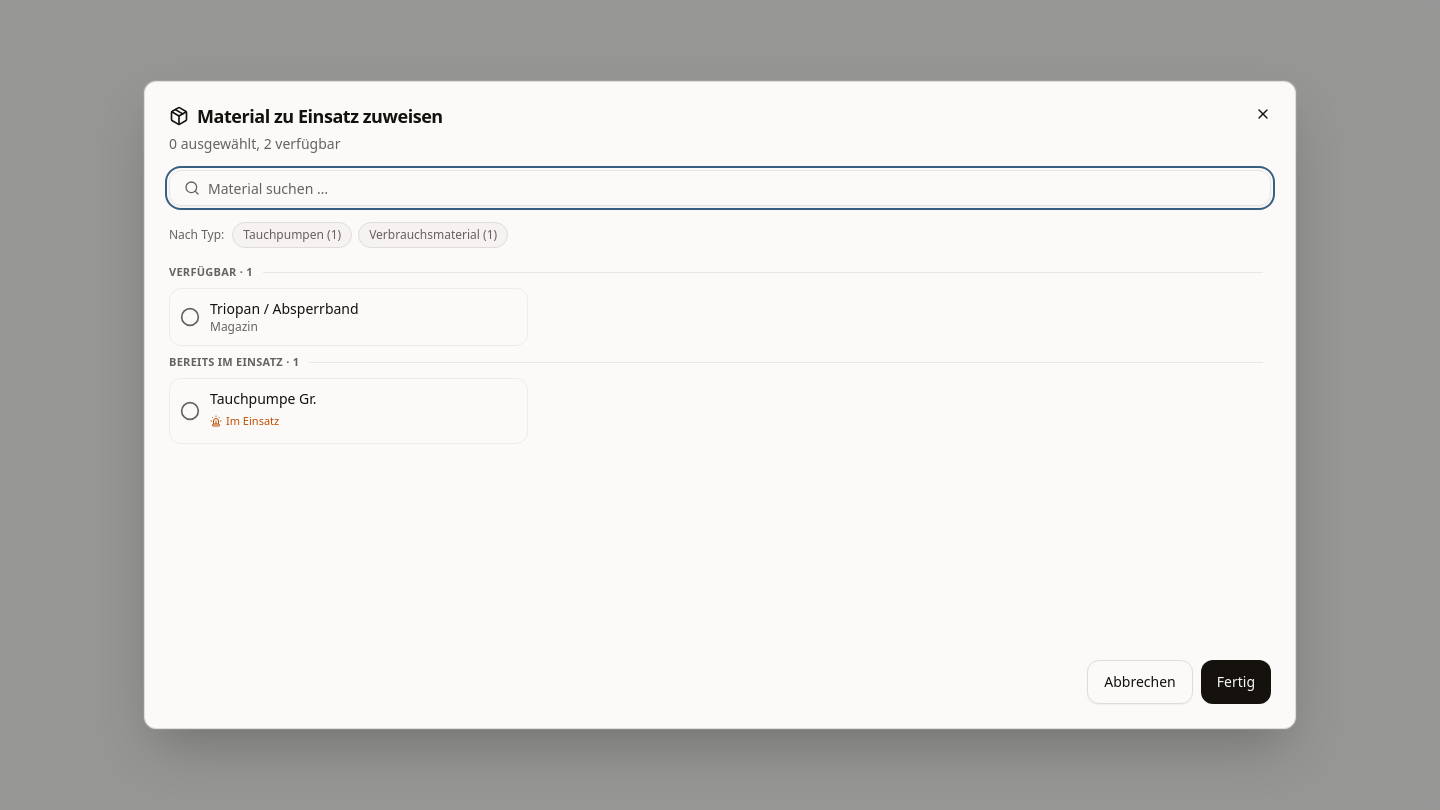
Test: material double-booking guard › selects Verbrauchsmaterial straight away – unlimited stock is never double-booked
Expected: the button "Triopan / Absperrband" does not show "Im Einsatz"
What coordinates should you click on to do the following:
click the button "Triopan / Absperrband Magazin"
I would click on:
 (349, 317)
Its box is [169,288,528,346].
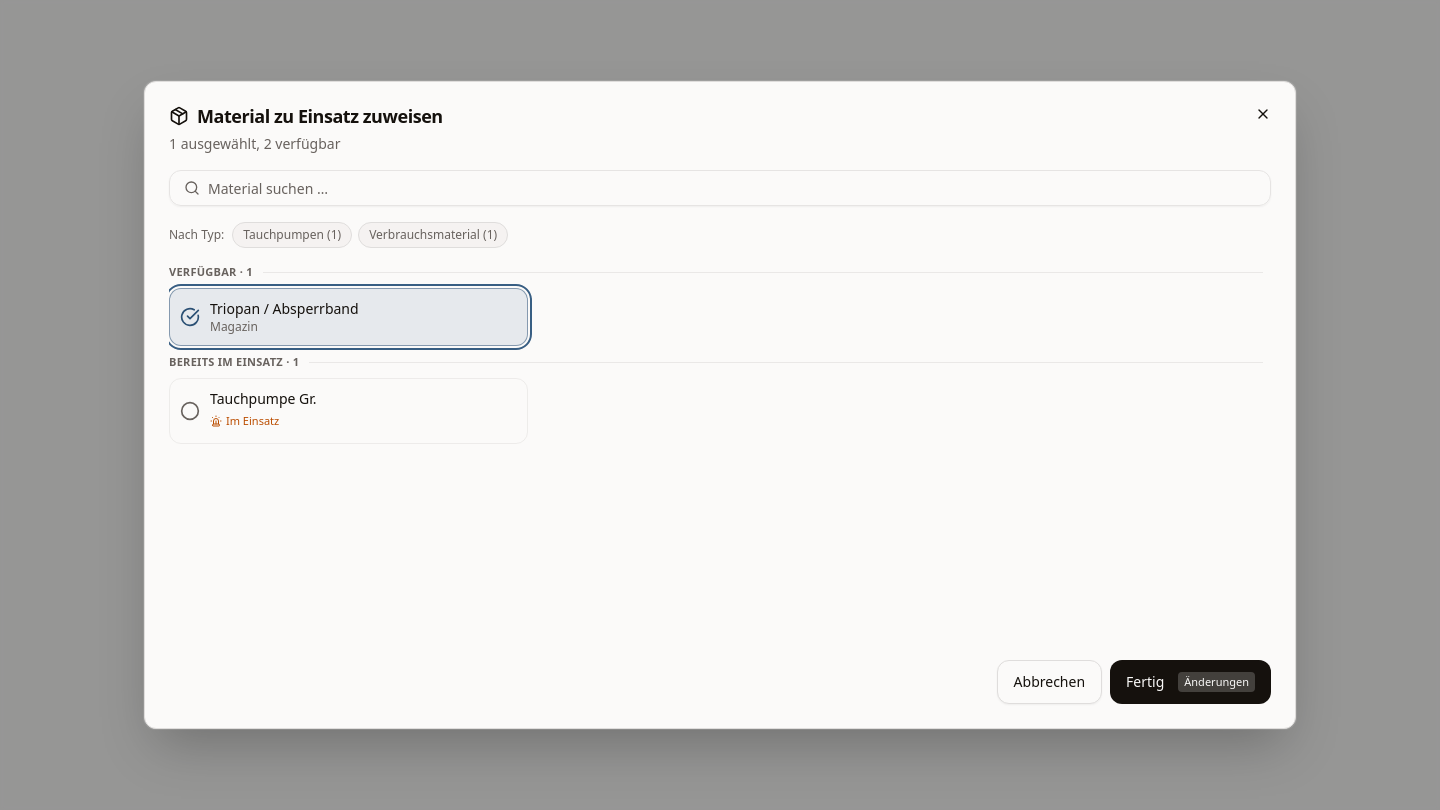
Expected: the text "Änderungen" is shown, [1178,672,1255,692]
